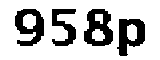5: (46, 6, 80, 48)
8: (84, 7, 115, 50)
9: (11, 4, 47, 52)
p: (116, 15, 150, 60)
